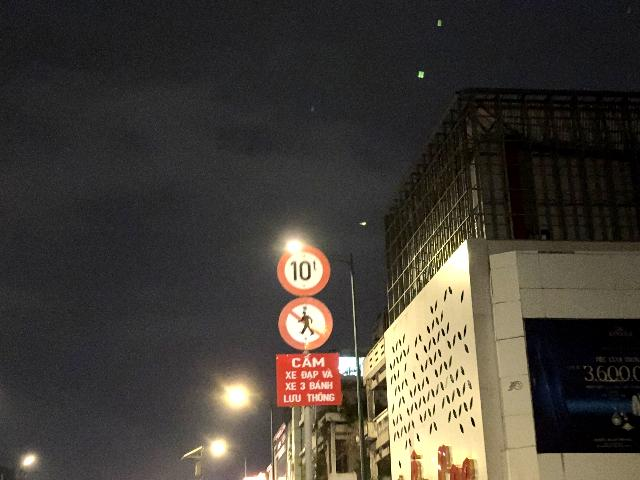cam-nguoi-di-bo: (279, 297, 333, 350)
han-che-trong-luong-xe: (277, 246, 330, 296)
